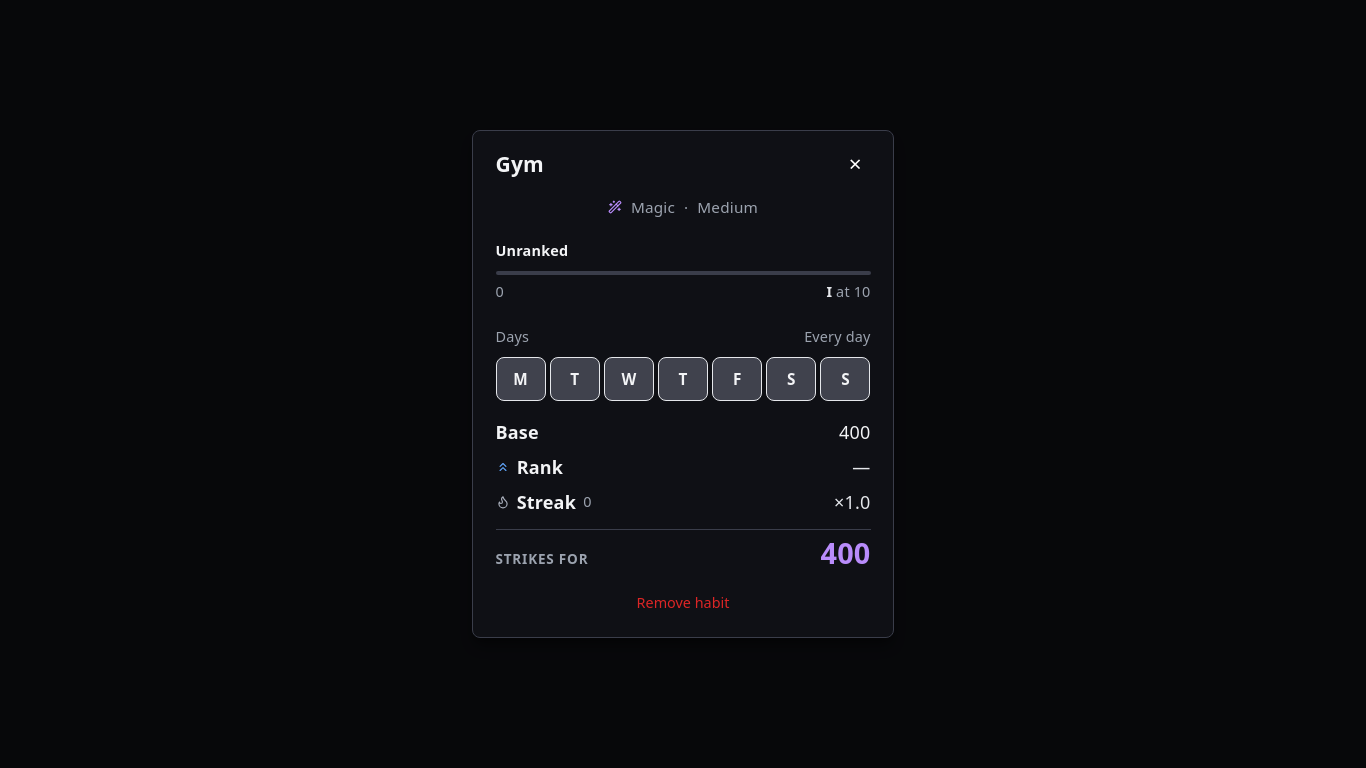
Test: HabitStatsModal › tapping a day saves it at once
Click the button with class "day" showing "F" at (737, 379), box [712,357,762,401]
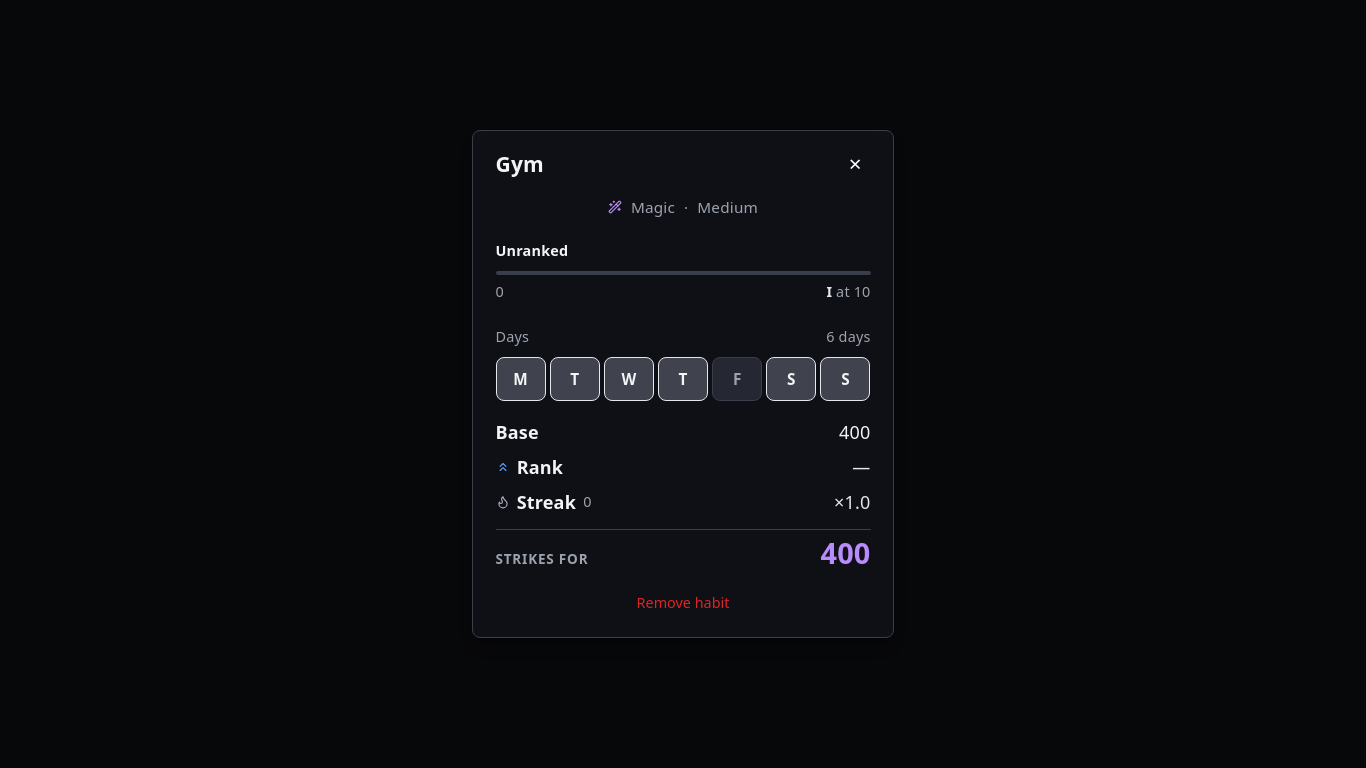
Result: the element with class "skill-days" shows "6 days" at [826,326,870,346]
